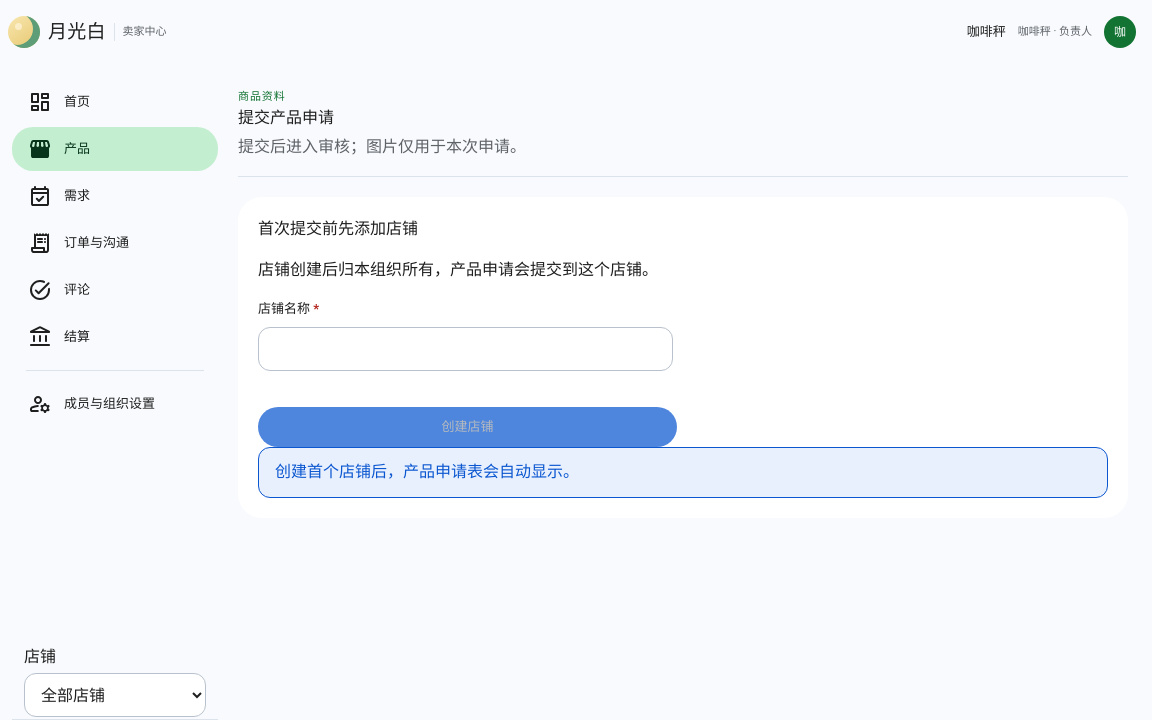
it: Seller first product application store setup › lets the Seller OWNER create the first store before showing the product form
Expected: the heading "首次提交前先添加店铺" is shown, [258, 219, 418, 238]
Expected: the field labelled "产品标识" is not shown
In the field labelled "店铺名称": coordinates (466, 349) [258, 327, 673, 371], type "咖啡秤日本店"
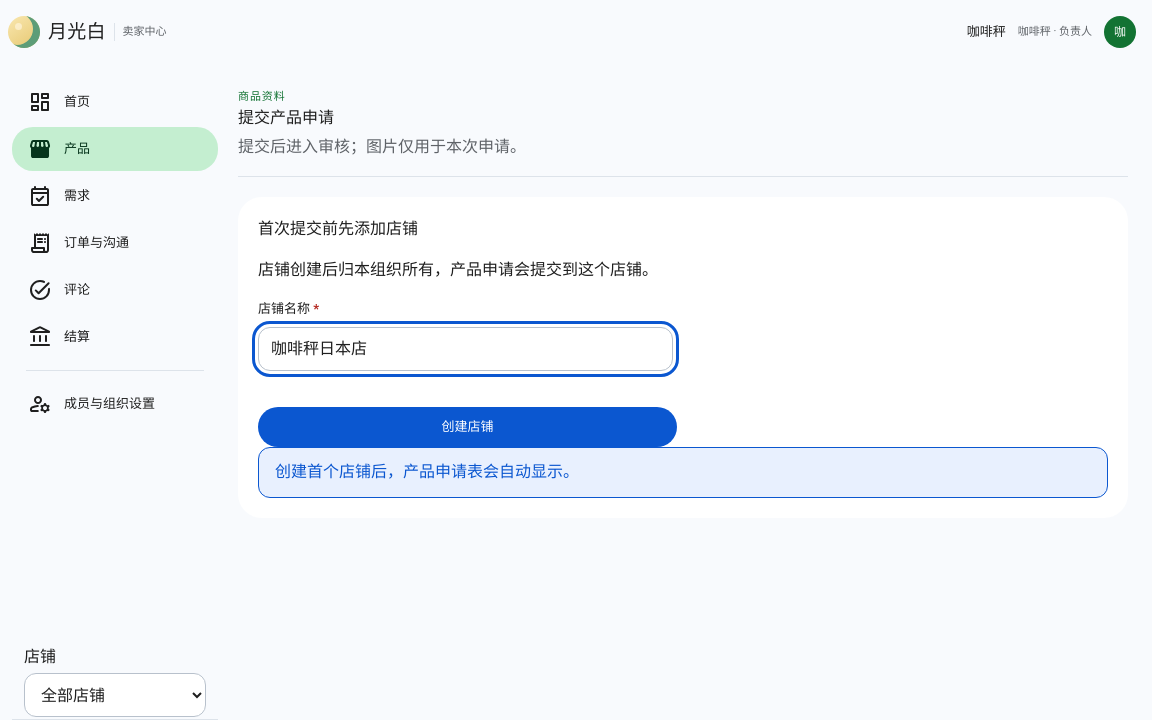
Click the button "创建店铺": coordinates (468, 427) [258, 407, 677, 447]
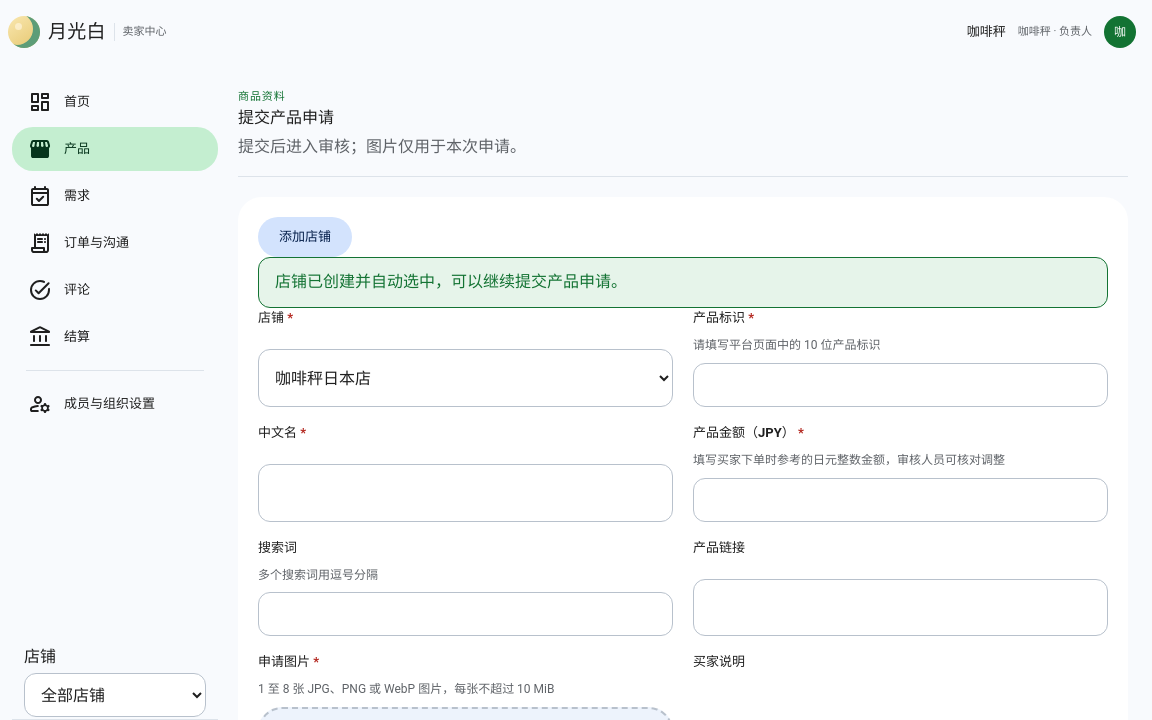
Expected: the text "店铺已创建并自动选中，可以继续提交产品申请。" is shown, [275, 272, 627, 291]
Expected: the field labelled "产品标识" is shown, [693, 363, 1108, 407]
Expected: the dropdown with id "application-store" shows "咖啡秤日本店", [258, 350, 673, 407]
